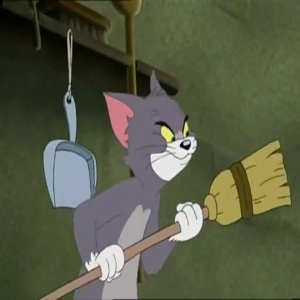Tom: (98, 74, 204, 181)
